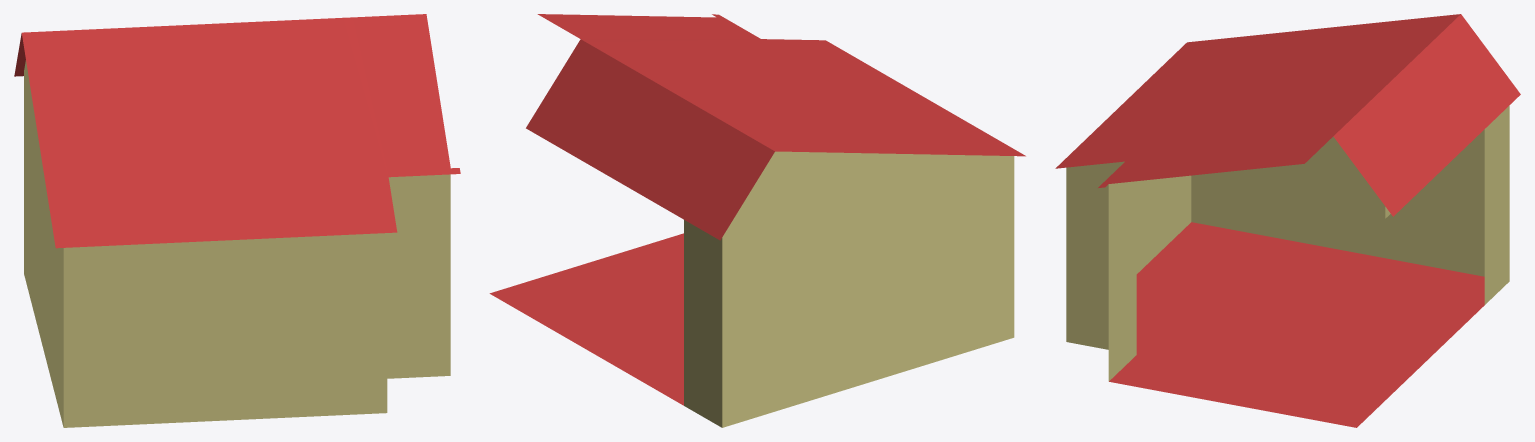
3 views of the same model, side by side, from view 1: azimuth 30°, elevation 25°; view 2: azimuth 150°, elevation 25°; view 3: azimuth 270°, elevation 25° (orthographic). The views are drawn at different scales.
Size of the model in its own units: 14.59 by 13.64 by 8.22.
